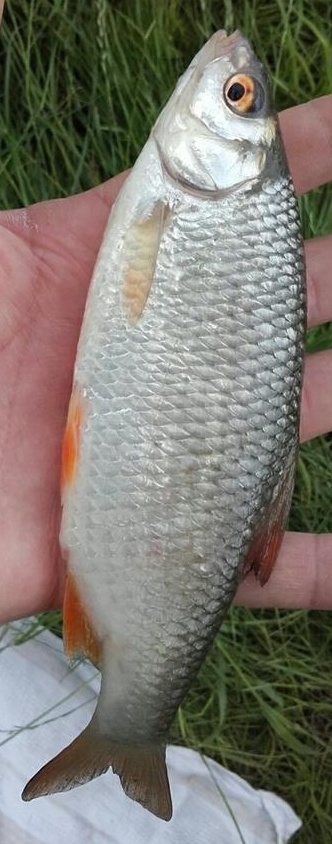Rutilus rutilus: (20, 20, 312, 824)
